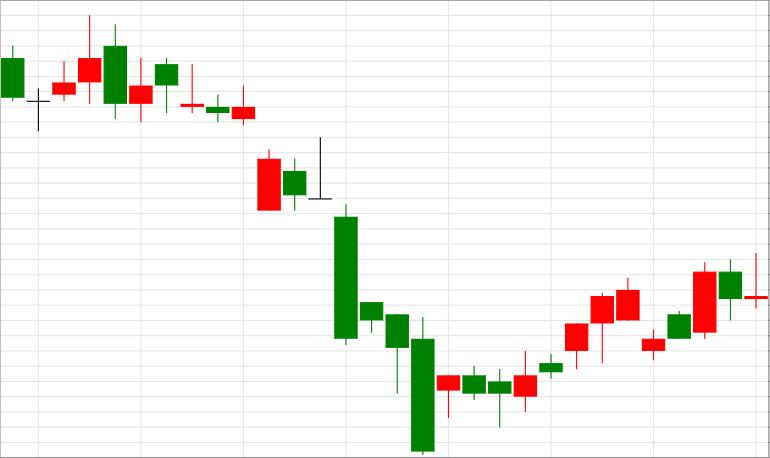hammer_rise: (206, 84, 408, 393)
